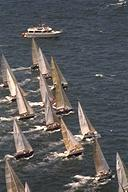boat: (20, 20, 64, 41)
sailboat: (57, 114, 85, 159), (91, 134, 114, 184), (75, 100, 101, 143), (11, 117, 36, 160), (52, 73, 75, 115), (3, 156, 28, 192), (13, 82, 36, 120), (43, 92, 63, 133), (6, 68, 26, 104), (112, 151, 128, 191), (36, 47, 54, 80), (29, 37, 46, 71)
water: (71, 2, 128, 100)
